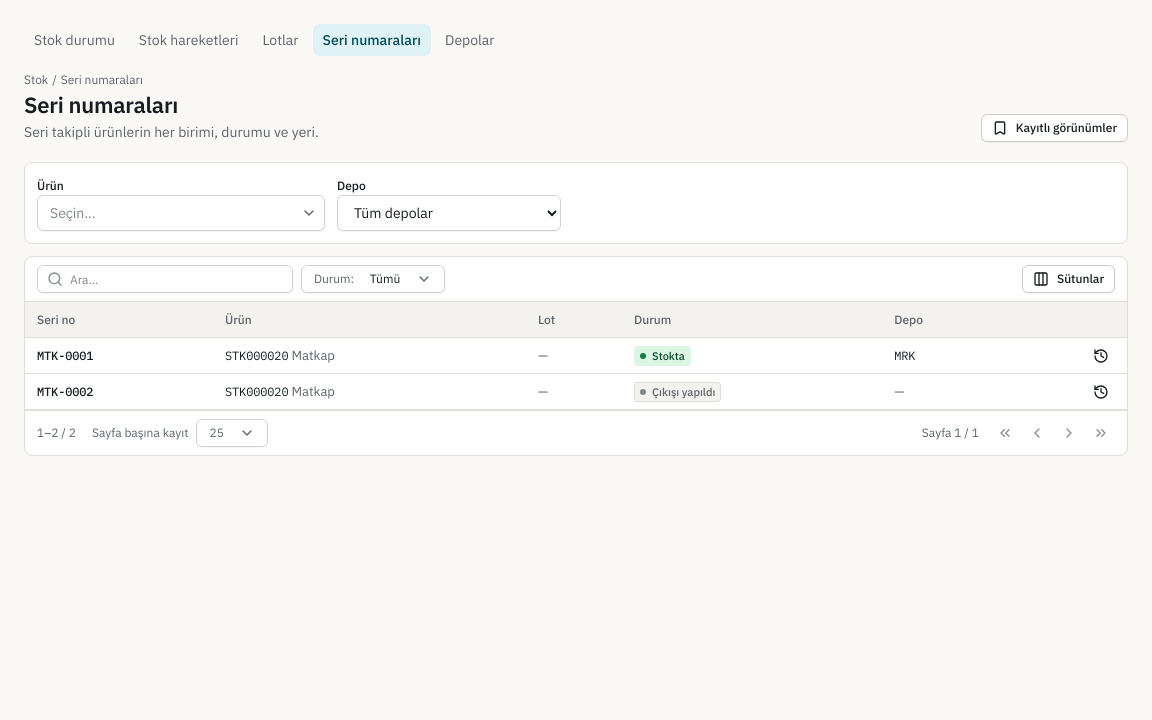
serials › lists serial units with status and opens a unit history
Check: the text "Çıkışı yapıldı" is shown, box [634,382,721,402]
Click the button named "MTK-0001 geçmişini aç": (1101, 356) [1087,342,1115,370]
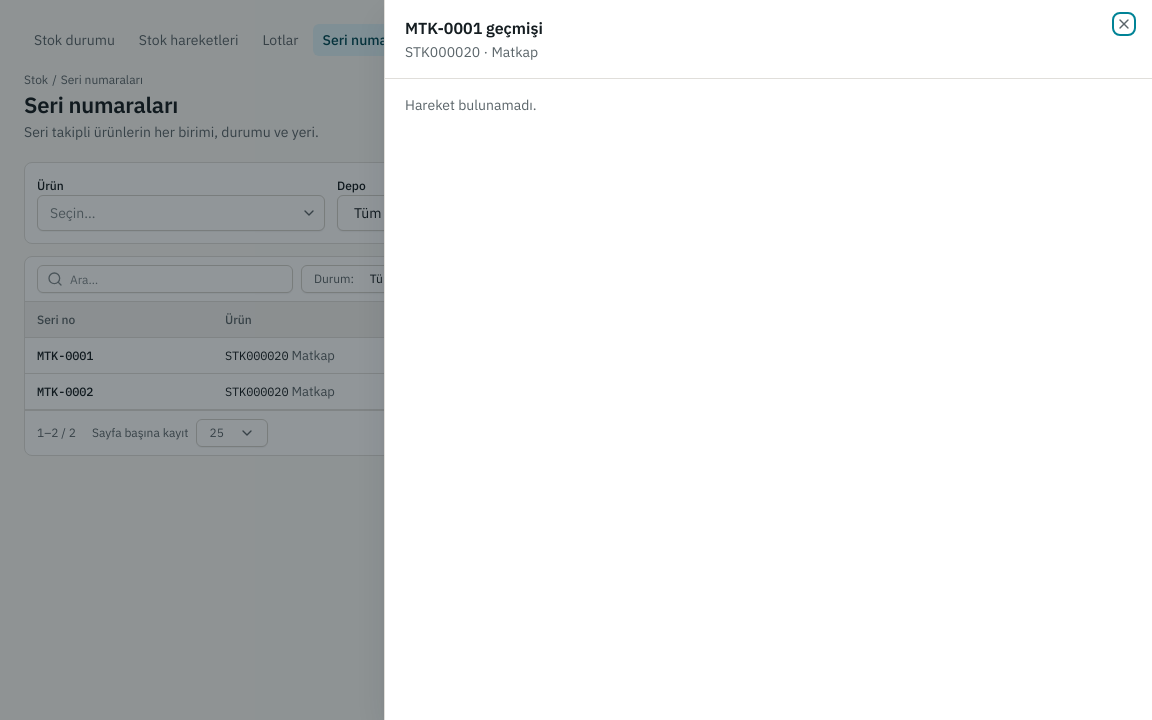
Check: the dialog "MTK-0001 geçmişi" is shown
